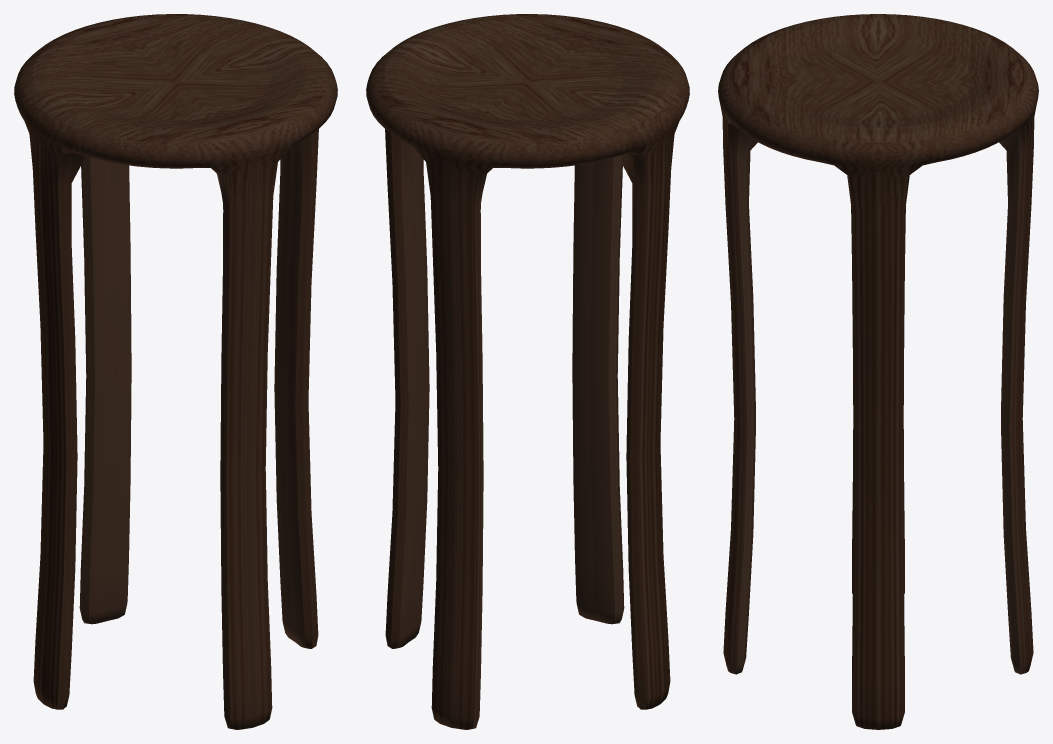
Rendered from banco.obj.
3 views of the same model, side by side, from view 1: azimuth 30°, elevation 25°; view 2: azimuth 150°, elevation 25°; view 3: azimuth 270°, elevation 25° (orthographic).
Parts seen in each view (by area): view 1: Cylinder_Cylinder.001; view 2: Cylinder_Cylinder.001; view 3: Cylinder_Cylinder.001.
Part boxes in pixels (x1=…): Cylinder_Cylinder.001: x1=14, y1=14, x2=337, y2=729; Cylinder_Cylinder.001: x1=366, y1=14, x2=689, y2=729; Cylinder_Cylinder.001: x1=718, y1=14, x2=1038, y2=729.
Bounding box in the file's own units: 0.3783 × 0.7745 × 0.3783.
1 material, 1 textured.
